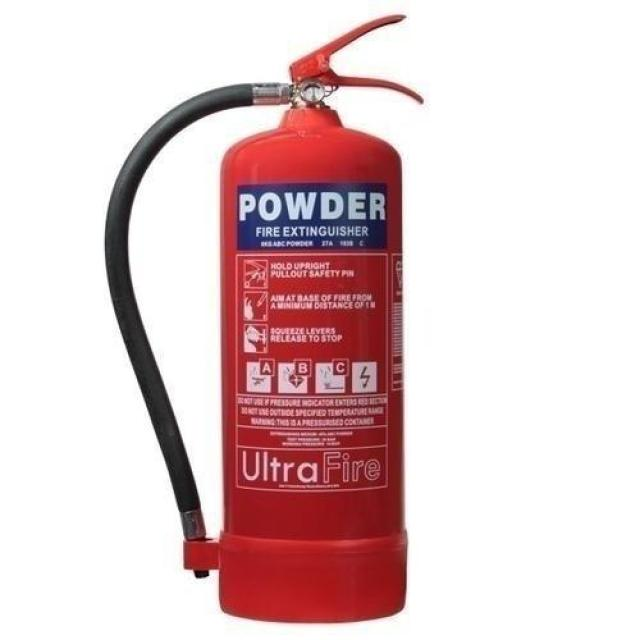fire_extinguisher: (98, 7, 428, 629)
